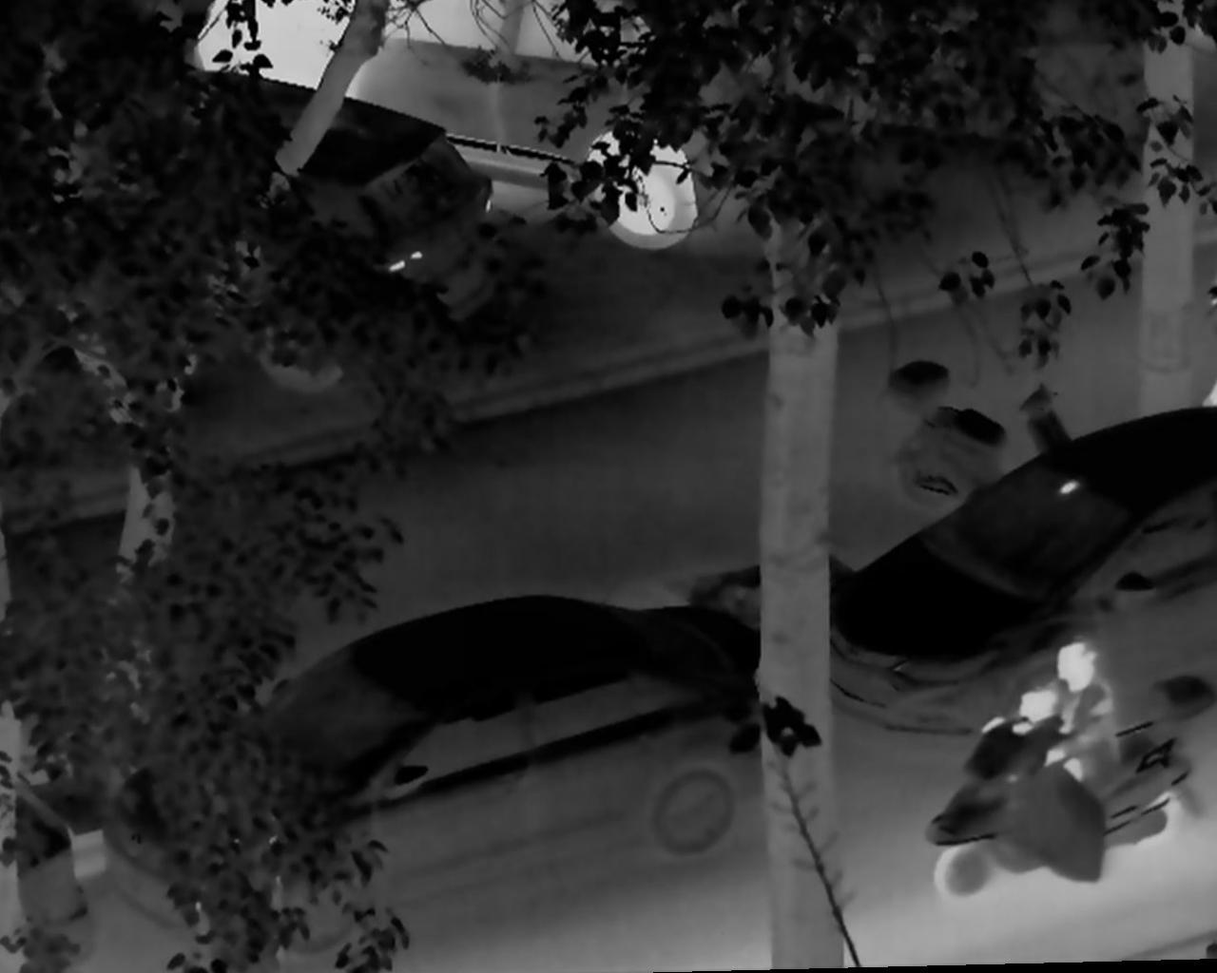person: (985, 629, 1130, 842), (1004, 685, 1072, 755)
